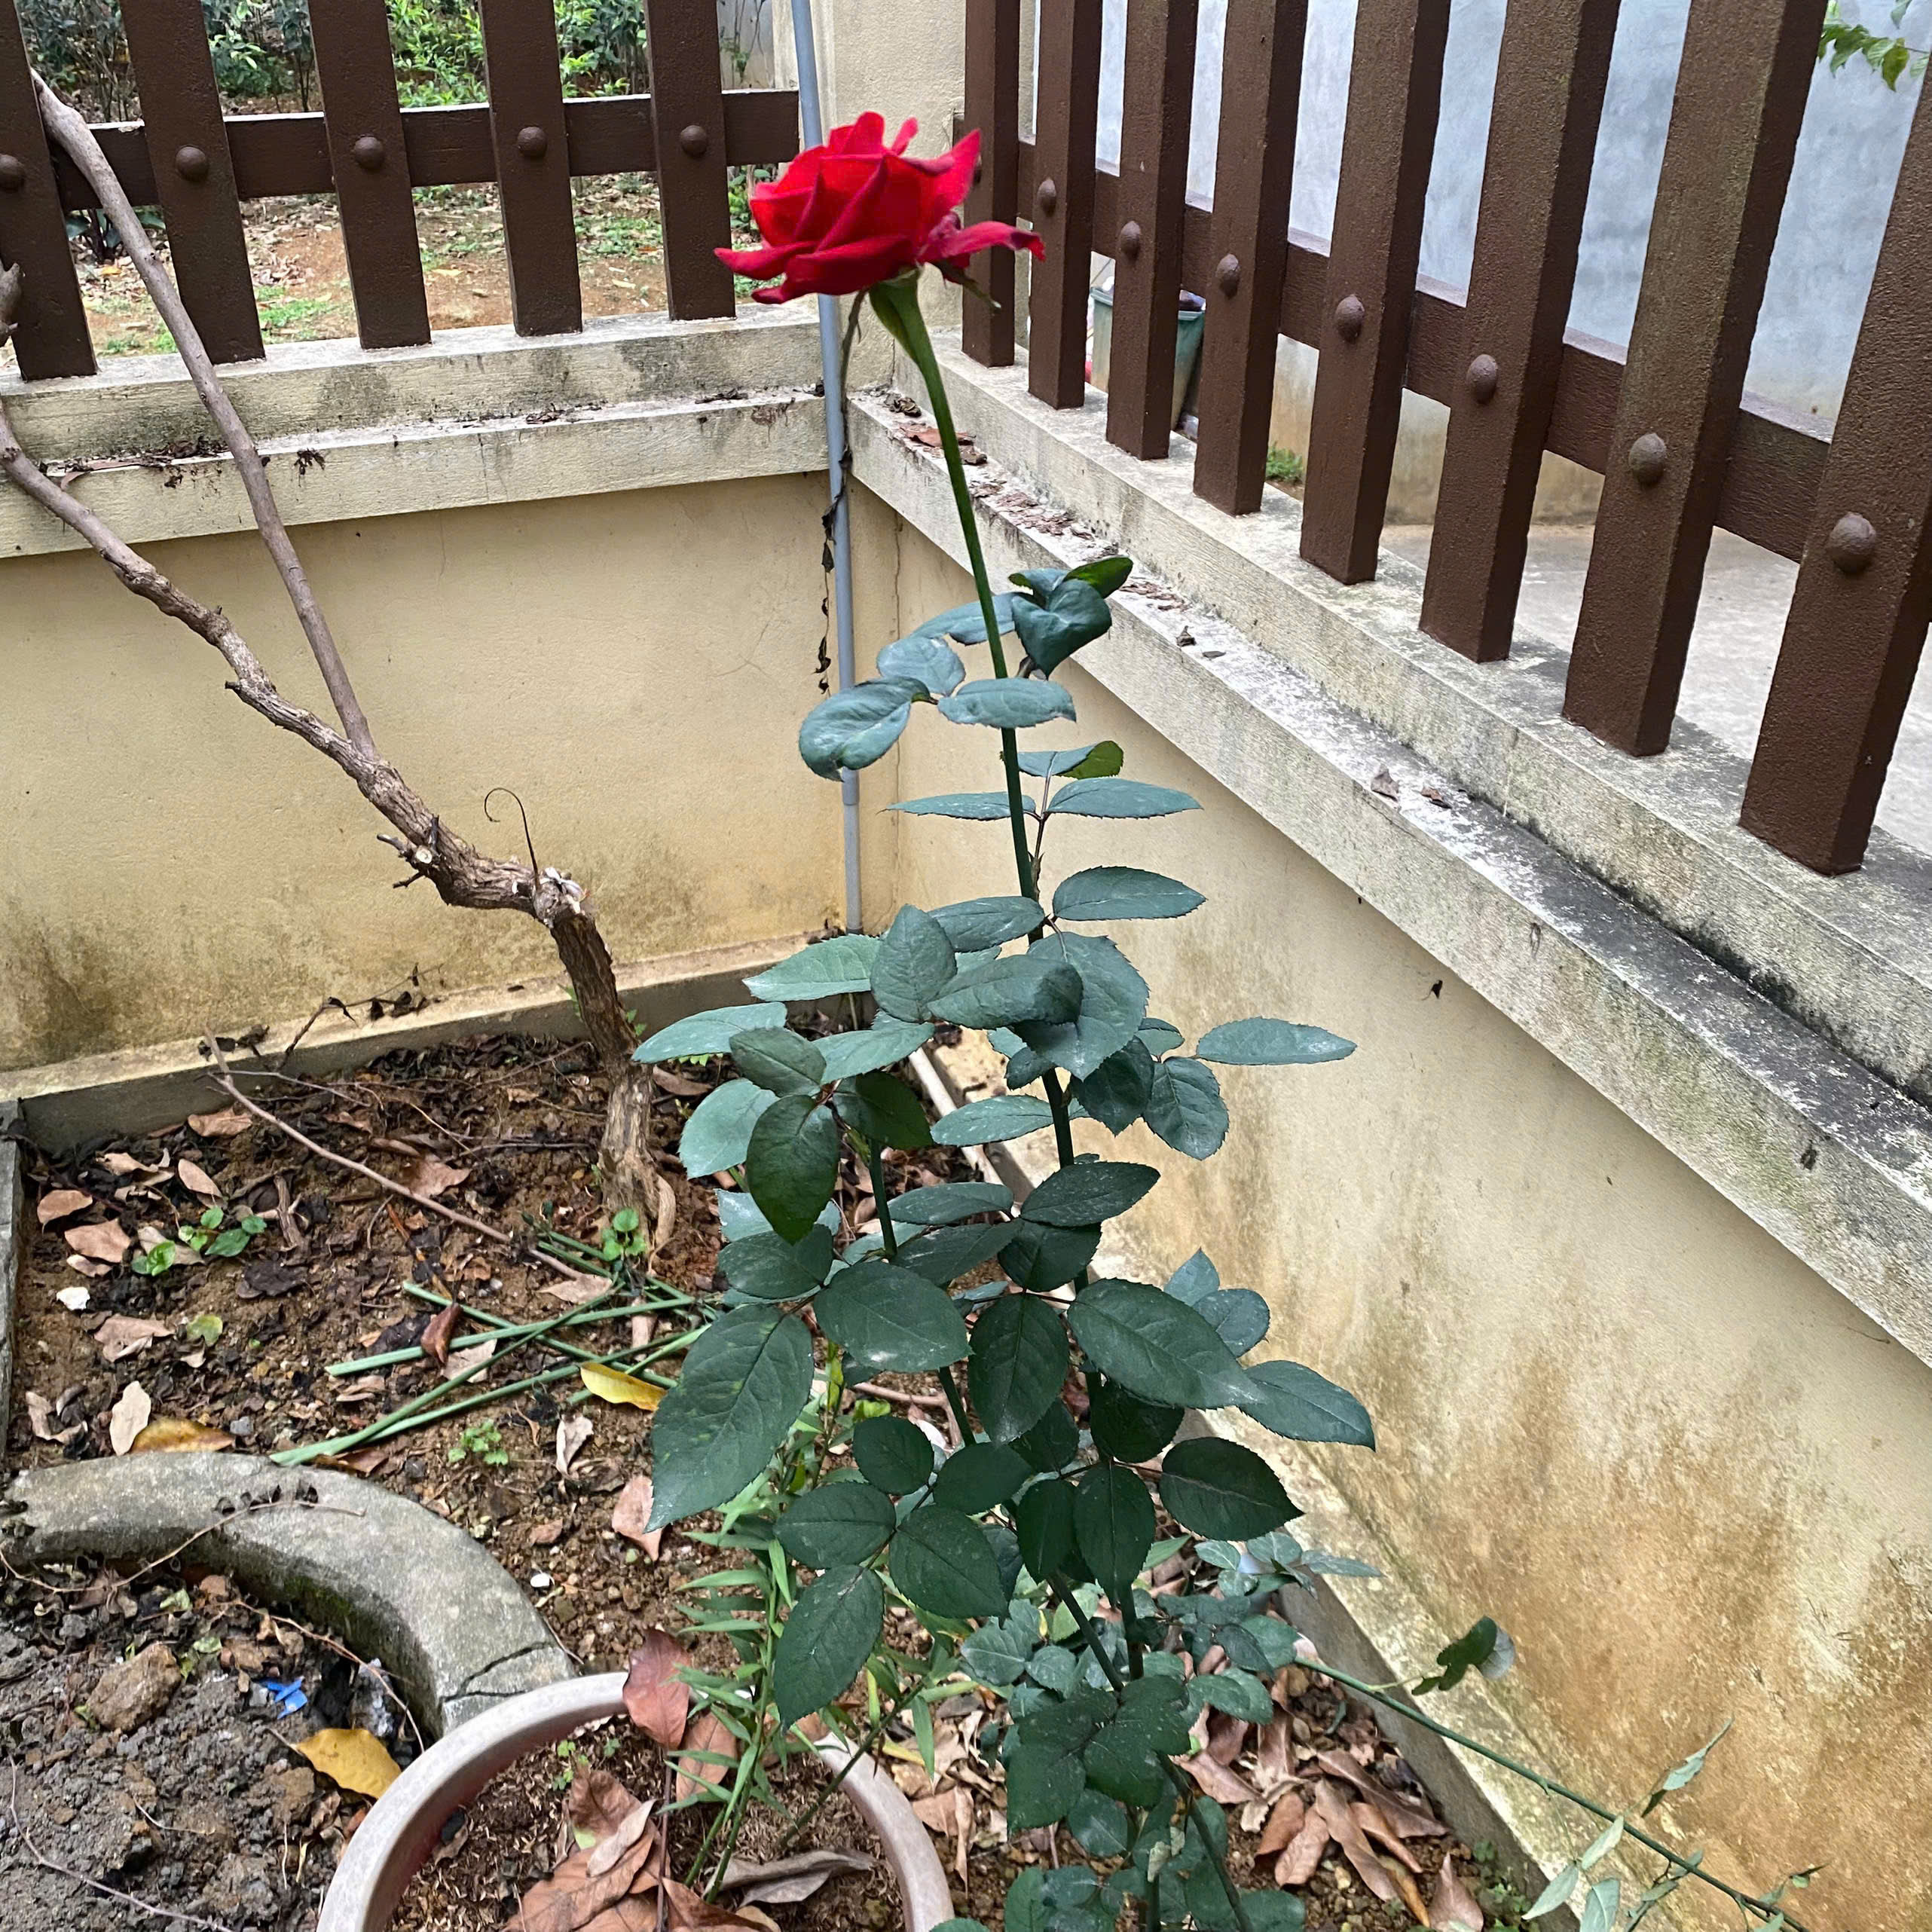hoa_hong_do: (575, 106, 1449, 1891)
